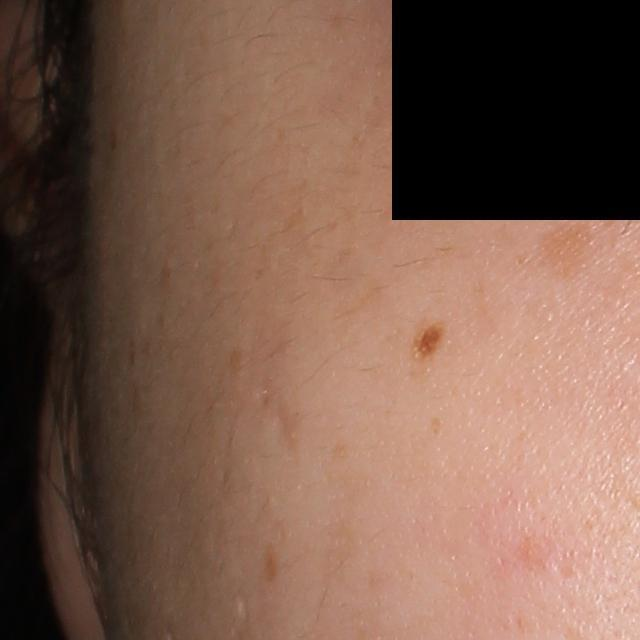atrophic_scar: (261, 398, 301, 465), (235, 583, 253, 625)
melasma: (527, 221, 597, 279), (263, 545, 283, 585)
nevus: (410, 320, 448, 359)
